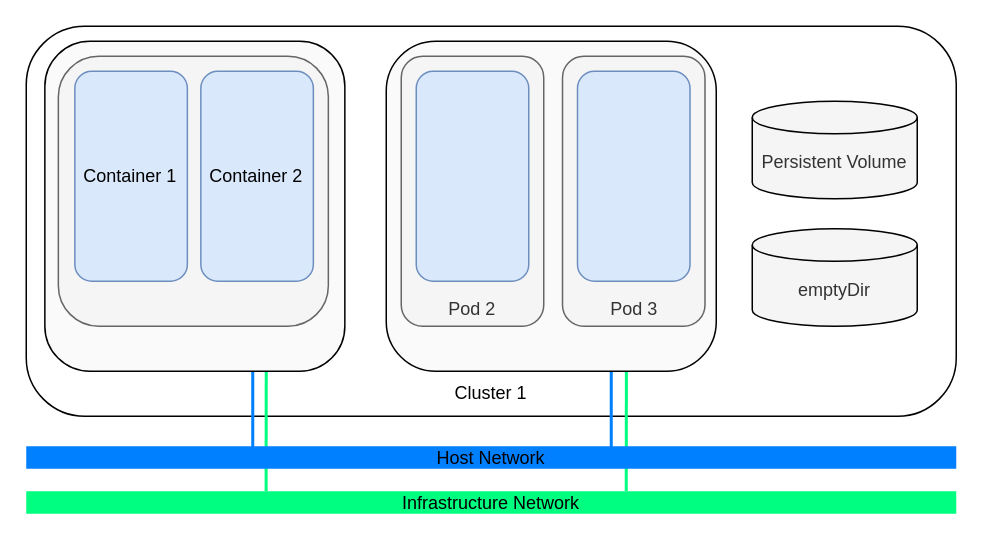
The diagram is 983 pixels wide and 540 high, and some of its shapes have lost their labels. Each missing label, with the box of its shape:
Container 3: (415, 70, 529, 281)
Container 4: (576, 70, 690, 281)
Node 1: (43, 40, 345, 371)
Node 2: (385, 40, 716, 371)
Pod 1: (57, 55, 328, 326)
